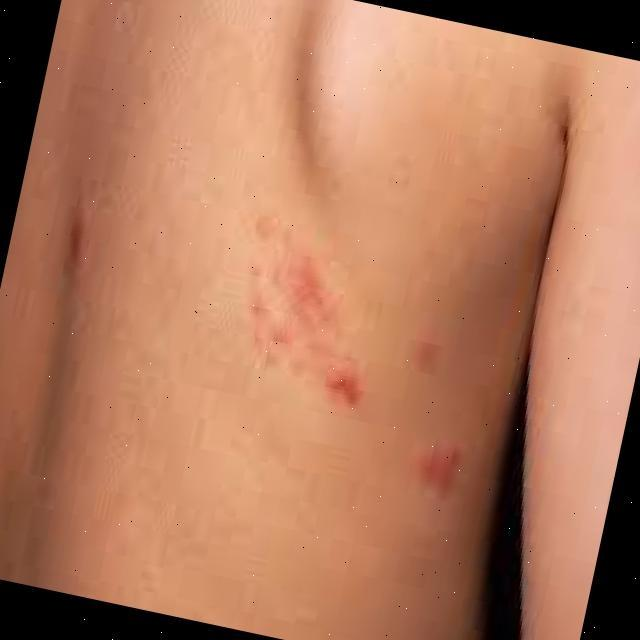Shingles: (248, 216, 366, 407), (415, 438, 467, 500)
